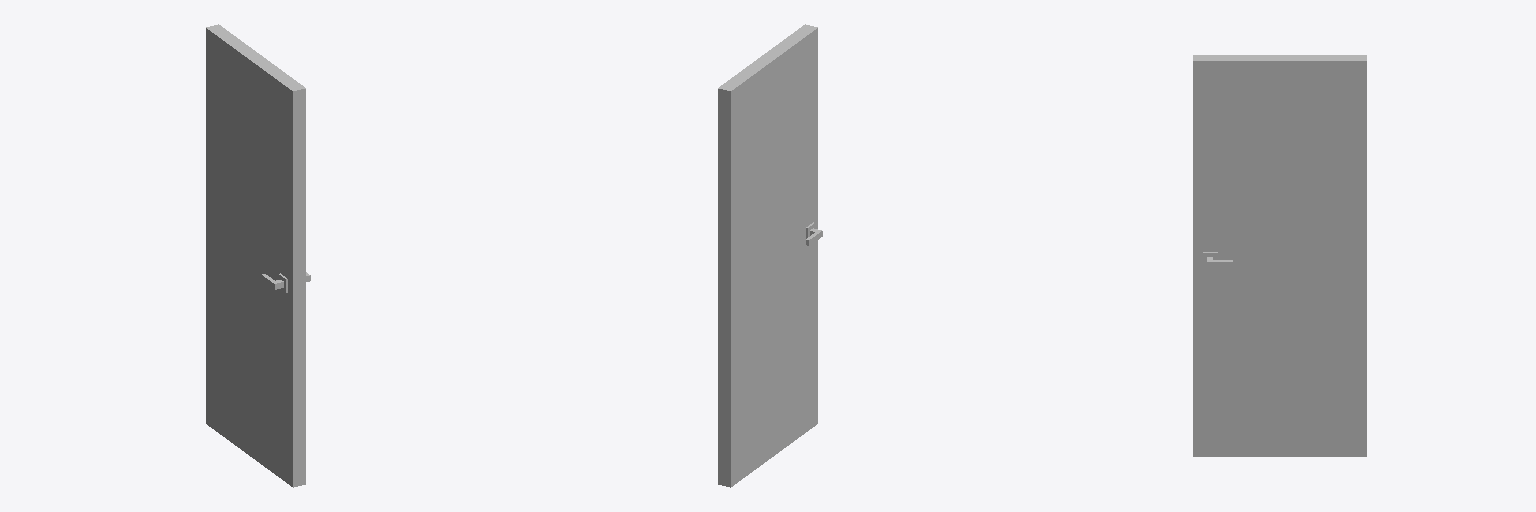
The model's file is door801_.obj.
3 views of the same model, side by side, from view 1: azimuth 30°, elevation 25°; view 2: azimuth 150°, elevation 25°; view 3: azimuth 270°, elevation 25° (orthographic).
Parts seen in each view (by area): view 1: Cube_Cube; view 2: Cube_Cube; view 3: Cube_Cube.
Part boxes in pixels (left/top/right/bottom): Cube_Cube: left=206, top=24, right=310, bottom=487; Cube_Cube: left=718, top=24, right=822, bottom=487; Cube_Cube: left=1193, top=55, right=1366, bottom=456.
Bounding box in the file's own units: 0.19 × 2 × 0.8001.